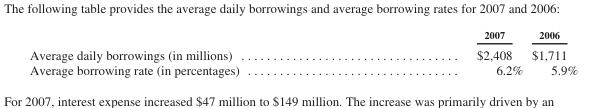table: (28, 28, 577, 77)
table column: (28, 28, 357, 77), (357, 28, 526, 77), (526, 28, 577, 77)
table column header: (28, 28, 577, 43)
table row: (28, 43, 577, 62), (28, 28, 577, 43), (28, 62, 577, 77)
